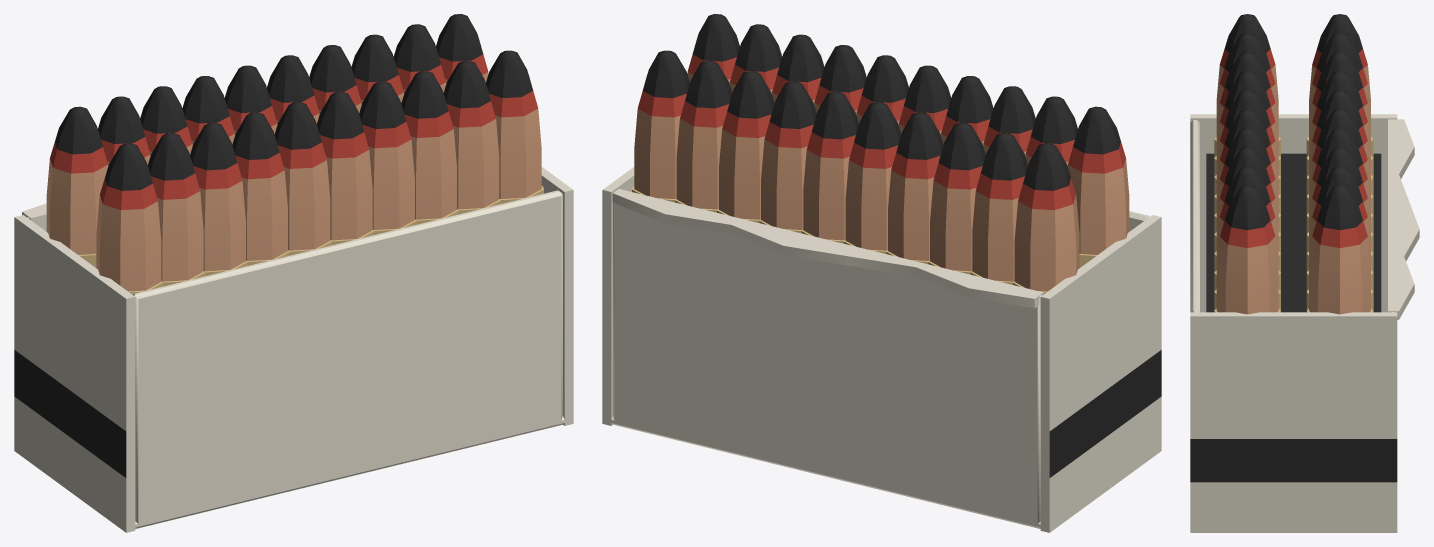
Rendered from ammo_762x39_ap.glb.
3 views of the same model, side by side, from view 1: azimuth 30°, elevation 25°; view 2: azimuth 150°, elevation 25°; view 3: azimuth 270°, elevation 25° (orthographic). The views are drawn at different scales.
Visible parts, largest first — view 1: body; view 2: body; view 3: body.
Boxes of the visible parts, x1,y1,x2,y2 form: body: [14, 14, 573, 532]; body: [602, 14, 1161, 532]; body: [1190, 14, 1419, 532].
Size of the model in its own units: 0.06 by 0.046 by 0.0288.
